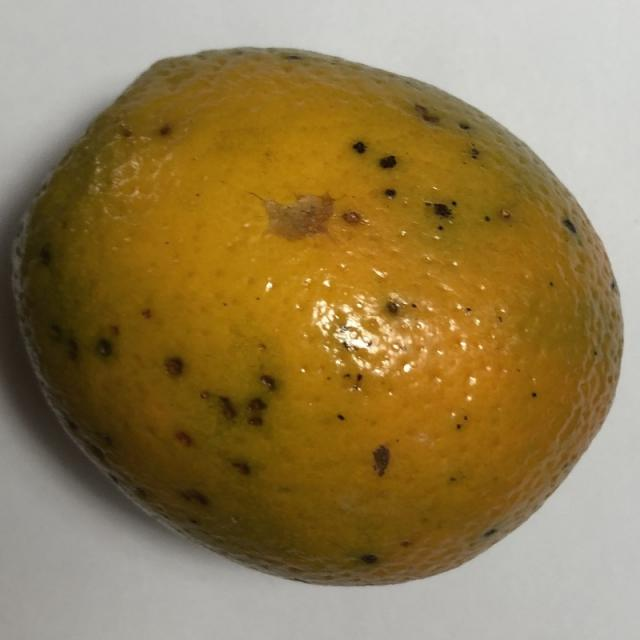blackspot: (0, 6, 638, 608)
